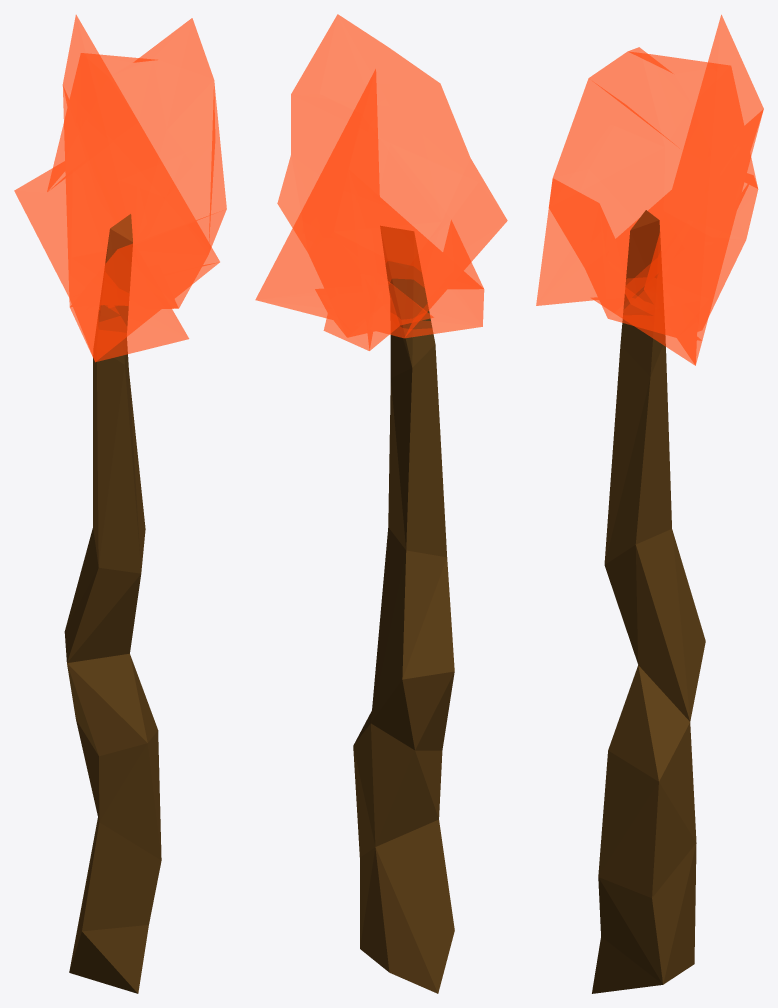
File: torch.glb
The picture shows the model from 3 angles, left to right: view 1: azimuth 30°, elevation 25°; view 2: azimuth 150°, elevation 25°; view 3: azimuth 270°, elevation 25°; orthographic projection. The views are drawn at different scales.
Visible parts, largest first — view 1: Sphere.002, Plane.007; view 2: Sphere.002, Plane.007; view 3: Plane.007, Sphere.002.
Boxes of the visible parts, x1,y1,x2,y2 form: Sphere.002: (14, 15, 226, 362); Plane.007: (64, 214, 161, 993); Sphere.002: (255, 14, 507, 350); Plane.007: (353, 226, 454, 993); Plane.007: (592, 210, 705, 993); Sphere.002: (536, 15, 763, 365).
Bounding box in the file's own units: 0.7372 × 3.32 × 0.6948.
Materials: 2 (1 with a texture image).
